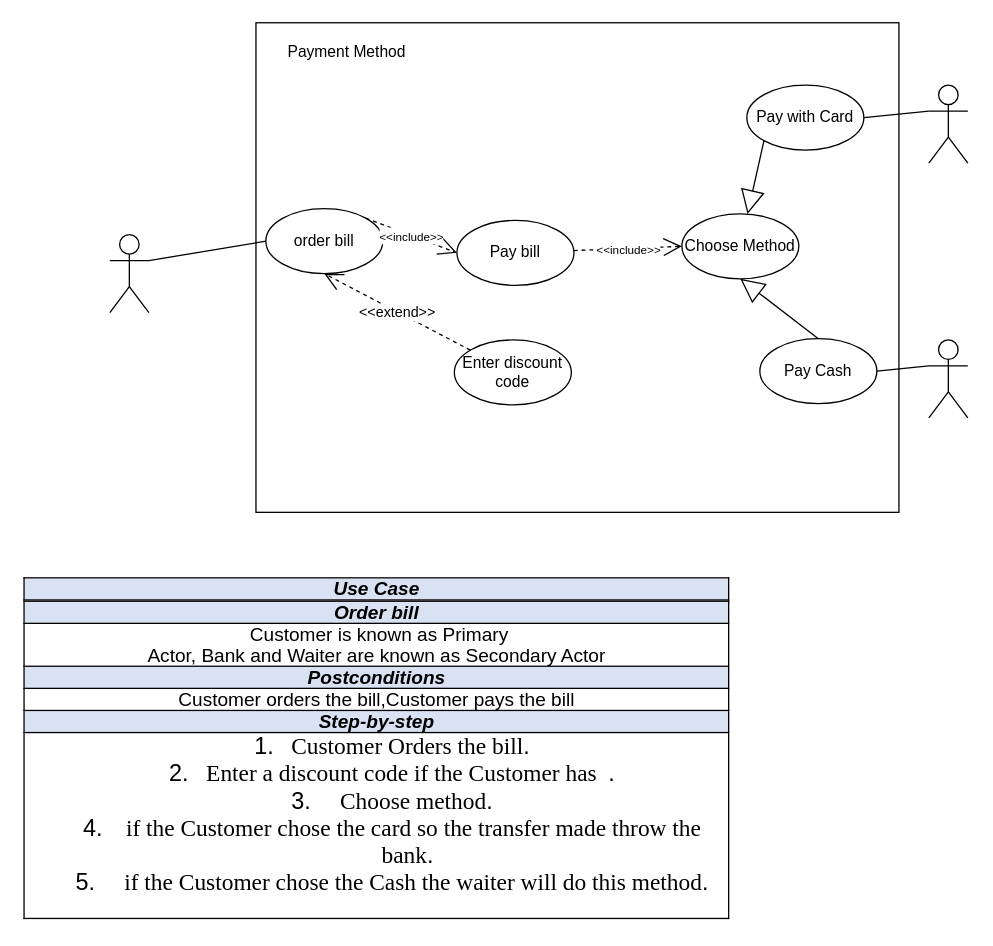
Some shapes in this 993 by 946 pixel diagram are drawn without their labels. The shapes that lost their labels are listed below. From the top down, each one's centre as x and y in pixels, then its label:
At point 948,123: "Bank".
At point 129,273: "Customer".
At point 948,378: "Waiter".
